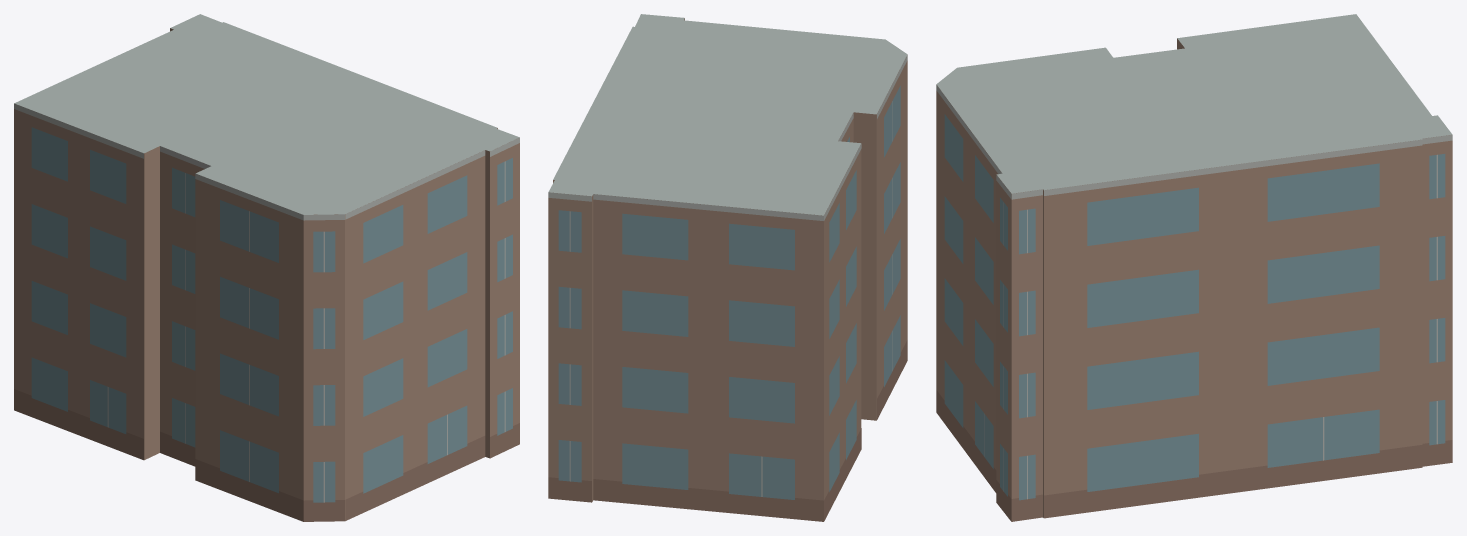
The model's file is survey-upis-32620990.glb.
The picture shows the model from 3 angles, left to right: view 1: azimuth 30°, elevation 25°; view 2: azimuth 150°, elevation 25°; view 3: azimuth 270°, elevation 25°; orthographic projection. The views are drawn at different scales.
Visible parts, largest first — view 1: survey-upis-32620990.tmp; view 2: survey-upis-32620990.tmp; view 3: survey-upis-32620990.tmp.
Boxes of the visible parts, left/top/right/bottom form: survey-upis-32620990.tmp: left=14, top=14, right=519, bottom=521; survey-upis-32620990.tmp: left=548, top=14, right=907, bottom=521; survey-upis-32620990.tmp: left=936, top=14, right=1452, bottom=521.
Size of the model in its own units: 15.87 by 13.5 by 19.26.
